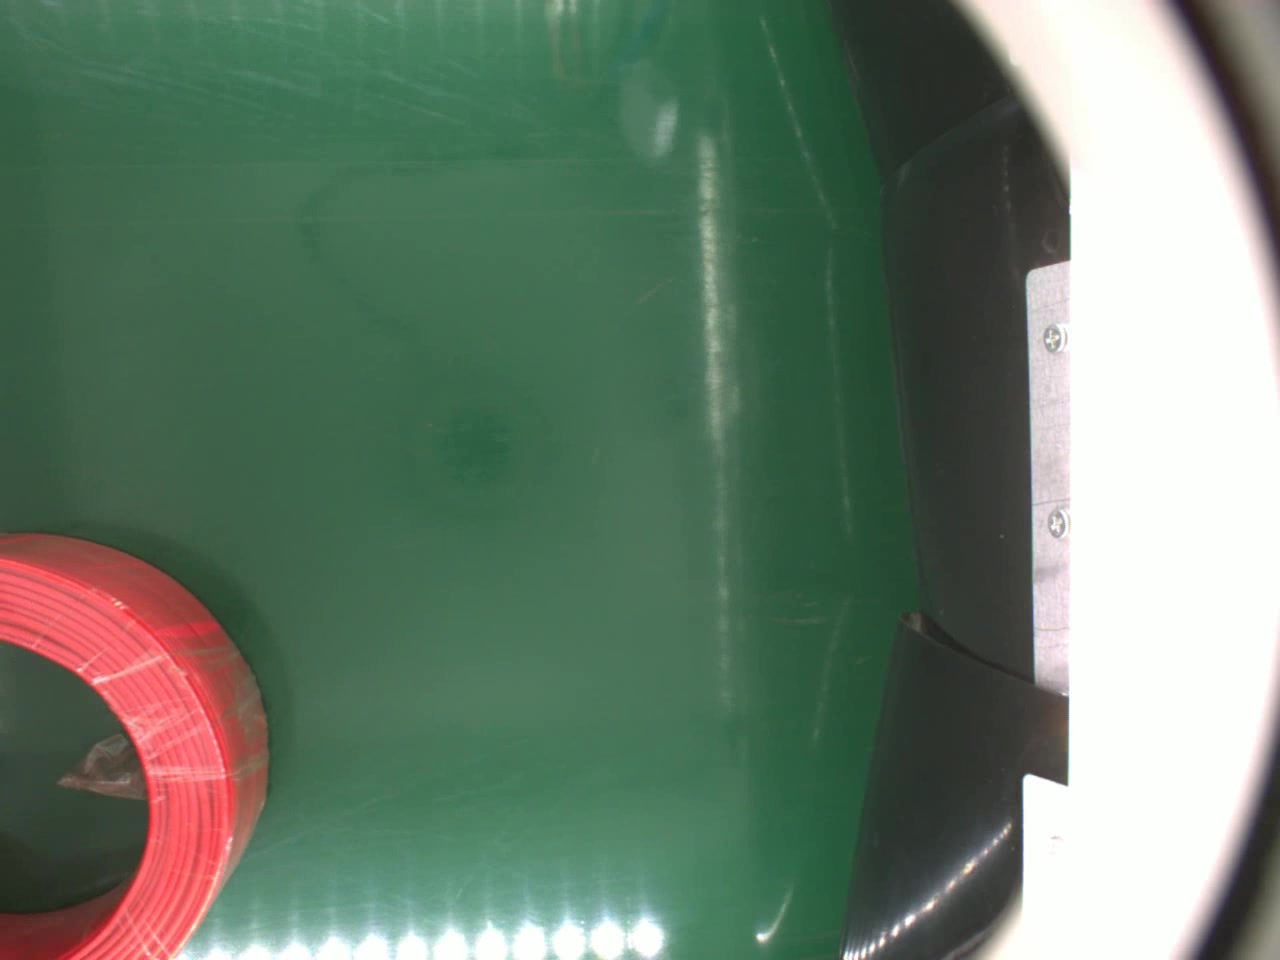red: (0, 528, 271, 960)
